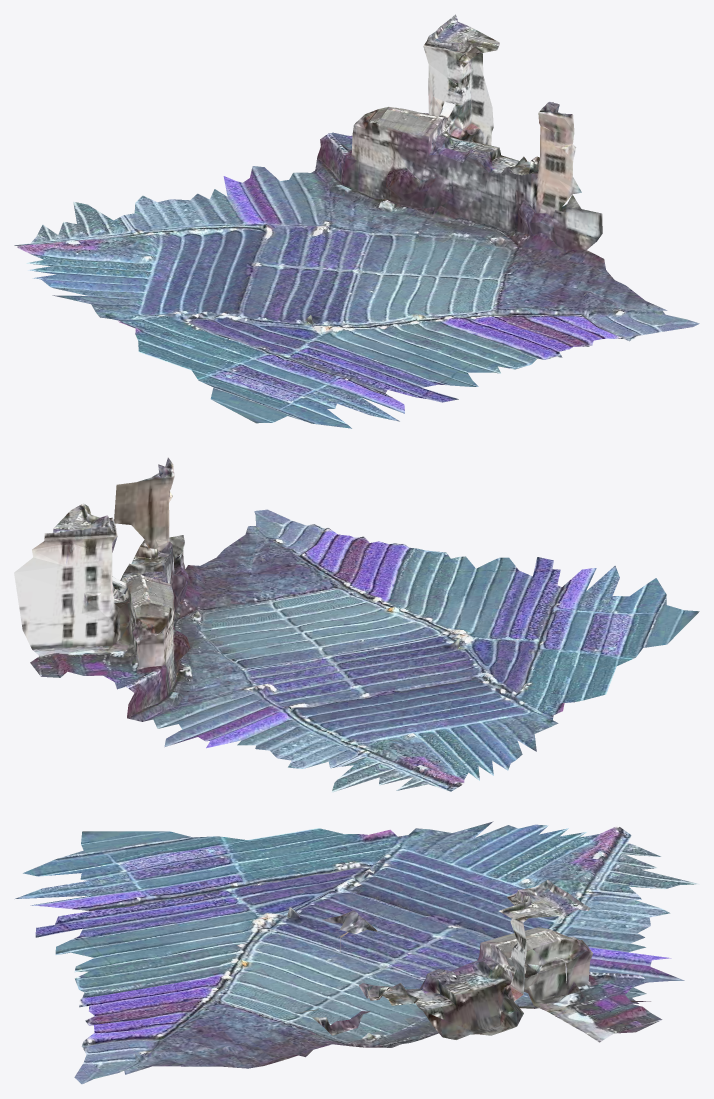
The model's file is Tile_+011_+018_L19_000012.glb.
3 renders of one model, top to bottom at view 1: azimuth 30°, elevation 25°; view 2: azimuth 150°, elevation 25°; view 3: azimuth 270°, elevation 25°, orthographic. The views are drawn at different scales.
Visible parts, largest first — view 1: rtc; view 2: rtc; view 3: rtc.
Part boxes in pixels (x1=…): rtc: x1=14, y1=14, x2=699, y2=428; rtc: x1=14, y1=457, x2=699, y2=792; rtc: x1=14, y1=821, x2=699, y2=1084.
Size of the model in its own units: 57.49 by 17.83 by 64.87.
1 material, 1 textured.
